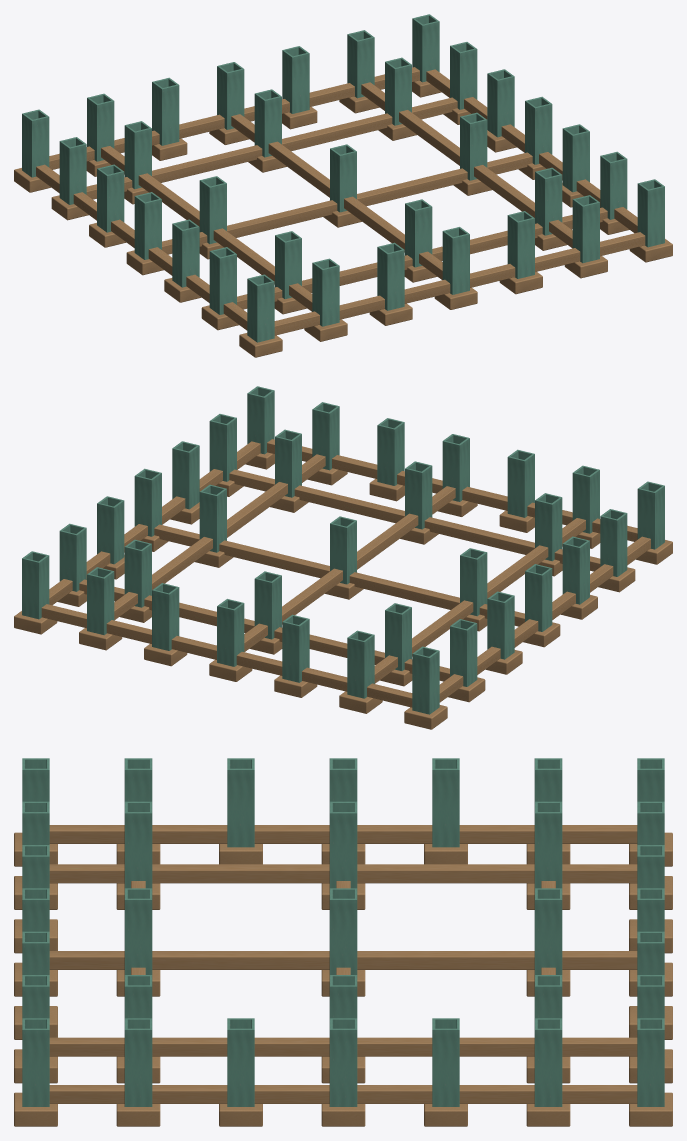
3 renders of one model, top to bottom at view 1: azimuth 30°, elevation 25°; view 2: azimuth 150°, elevation 25°; view 3: azimuth 270°, elevation 25°, orthographic. The views are drawn at different scales.
Parts seen in each view (by area): view 1: Tier 0 internal tie 0-0-0-0.25, Tier 0 tie 0-0-0.25, Tier 0 internal tie 0-0.56-0-0.25, Tier 0 internal tie 1-0-0-0.25, Tier 0 internal tie 1-0.56-0-0.25, Tier 0 internal tie 1--0.56-0-0.25, Tier 0 tie 3-0-0.25, Tier 0 tie 2-0-0.25, Tier 0 tie 1-0-0.25, Tier 0 internal tie 0--0.56-0-0.25, Tier 0 upright 0, Tier 0 upright 16 (+40 smaller); view 2: Tier 0 internal tie 0-0-0-0.25, Tier 0 tie 2-0-0.25, Tier 0 internal tie 0--0.56-0-0.25, Tier 0 internal tie 1-0-0-0.25, Tier 0 internal tie 1-0.56-0-0.25, Tier 0 internal tie 1--0.56-0-0.25, Tier 0 tie 3-0-0.25, Tier 0 tie 0-0-0.25, Tier 0 tie 1-0-0.25, Tier 0 internal tie 0-0.56-0-0.25, Tier 0 upright 18, Tier 0 upright 2 (+40 smaller); view 3: Tier 0 internal tie 1--0.56-0-0.25, Tier 0 internal tie 1-0-0-0.25, Tier 0 internal tie 1-0.56-0-0.25, Tier 0 tie 1-0-0.25, Tier 0 tie 3-0-0.25, Tier 0 upright 11, Tier 0 upright 7, Tier 0 upright 9, Tier 0 upright 20, Tier 0 upright 22, Tier 0 upright 10, Tier 0 upright 12 (+45 smaller).
Boxes of the visible parts, box(x1,y1,x2,y2) form: Tier 0 internal tie 0-0-0-0.25: box(162, 152, 532, 254); Tier 0 tie 0-0-0.25: box(274, 232, 645, 335); Tier 0 internal tie 0-0.56-0-0.25: box(86, 97, 457, 199); Tier 0 internal tie 1-0-0-0.25: box(231, 114, 442, 279); Tier 0 internal tie 1-0.56-0-0.25: box(361, 82, 572, 248); Tier 0 internal tie 1--0.56-0-0.25: box(101, 146, 312, 311); Tier 0 tie 3-0-0.25: box(36, 164, 247, 330); Tier 0 tie 2-0-0.25: box(49, 67, 419, 169); Tier 0 tie 1-0-0.25: box(426, 69, 637, 233); Tier 0 internal tie 0--0.56-0-0.25: box(237, 207, 607, 309); Tier 0 upright 0: box(247, 274, 274, 342); Tier 0 upright 16: box(152, 77, 179, 145); Tier 0 internal tie 0-0-0-0.25: box(154, 524, 524, 626); Tier 0 tie 2-0-0.25: box(41, 604, 412, 707); Tier 0 internal tie 0--0.56-0-0.25: box(229, 469, 600, 571); Tier 0 internal tie 1-0-0-0.25: box(244, 486, 455, 651); Tier 0 internal tie 1-0.56-0-0.25: box(114, 454, 325, 620); Tier 0 internal tie 1--0.56-0-0.25: box(374, 518, 585, 683); Tier 0 tie 3-0-0.25: box(439, 536, 650, 702); Tier 0 tie 0-0-0.25: box(267, 439, 637, 541); Tier 0 tie 1-0-0.25: box(49, 441, 260, 605); Tier 0 internal tie 0-0.56-0-0.25: box(79, 579, 449, 681); Tier 0 upright 18: box(412, 646, 439, 714); Tier 0 upright 2: box(507, 449, 534, 517); Tier 0 internal tie 1--0.56-0-0.25: box(49, 864, 637, 883); Tier 0 internal tie 1-0-0-0.25: box(49, 951, 637, 969); Tier 0 internal tie 1-0.56-0-0.25: box(49, 1037, 637, 1056); Tier 0 tie 1-0-0.25: box(49, 1085, 637, 1103); Tier 0 tie 3-0-0.25: box(49, 825, 637, 843); Tier 0 upright 11: box(534, 1018, 562, 1106); Tier 0 upright 7: box(124, 1018, 152, 1106); Tier 0 upright 9: box(329, 1018, 357, 1106); Tier 0 upright 20: box(432, 758, 459, 847); Tier 0 upright 22: box(227, 758, 254, 847); Tier 0 upright 10: box(432, 1018, 459, 1106); Tier 0 upright 12: box(637, 1018, 664, 1106).
Size of the model in its own units: 1.8 by 0.2834 by 1.8.
2 materials, 2 textured.
